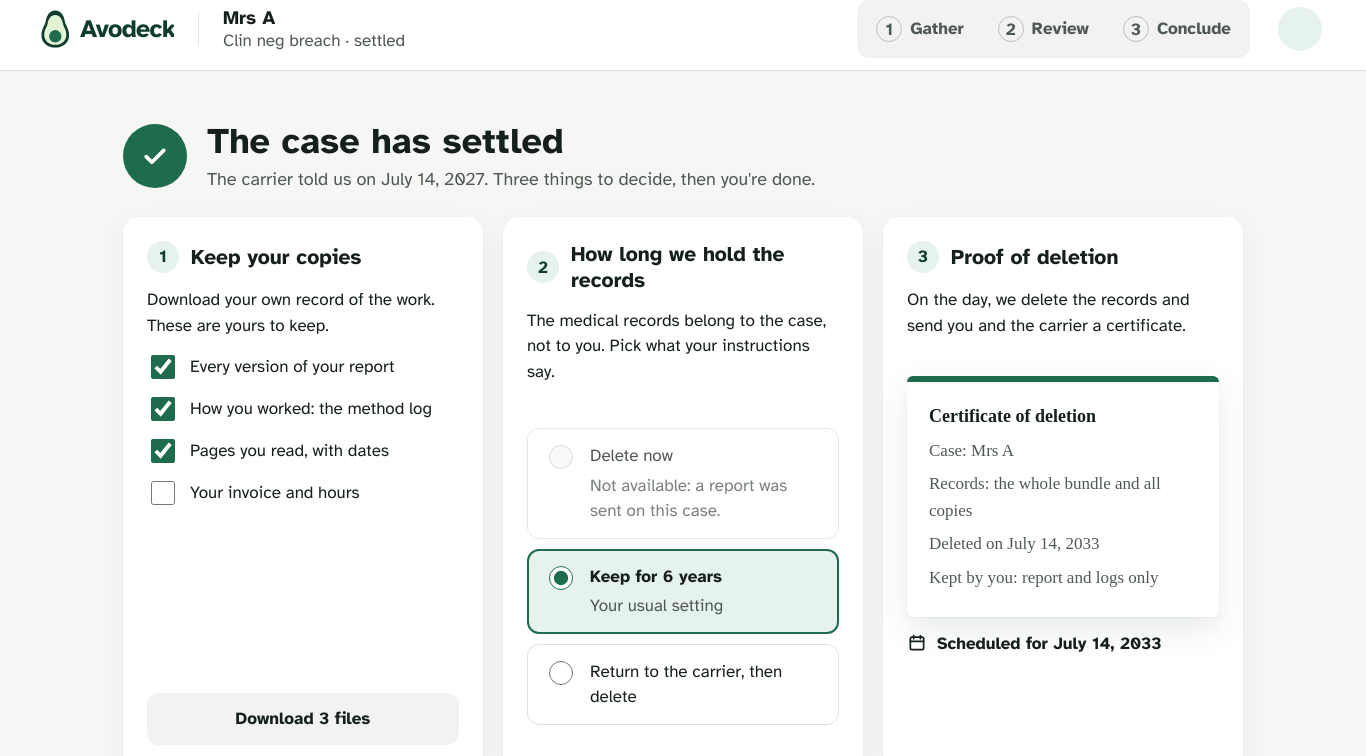
Scenario: the return choice names the instructing party in the pack's words and is saved
Click the radio button labelled "Return to the carrier, then delete" at (561, 672), box [549,660,573,684]
(page scrolled)
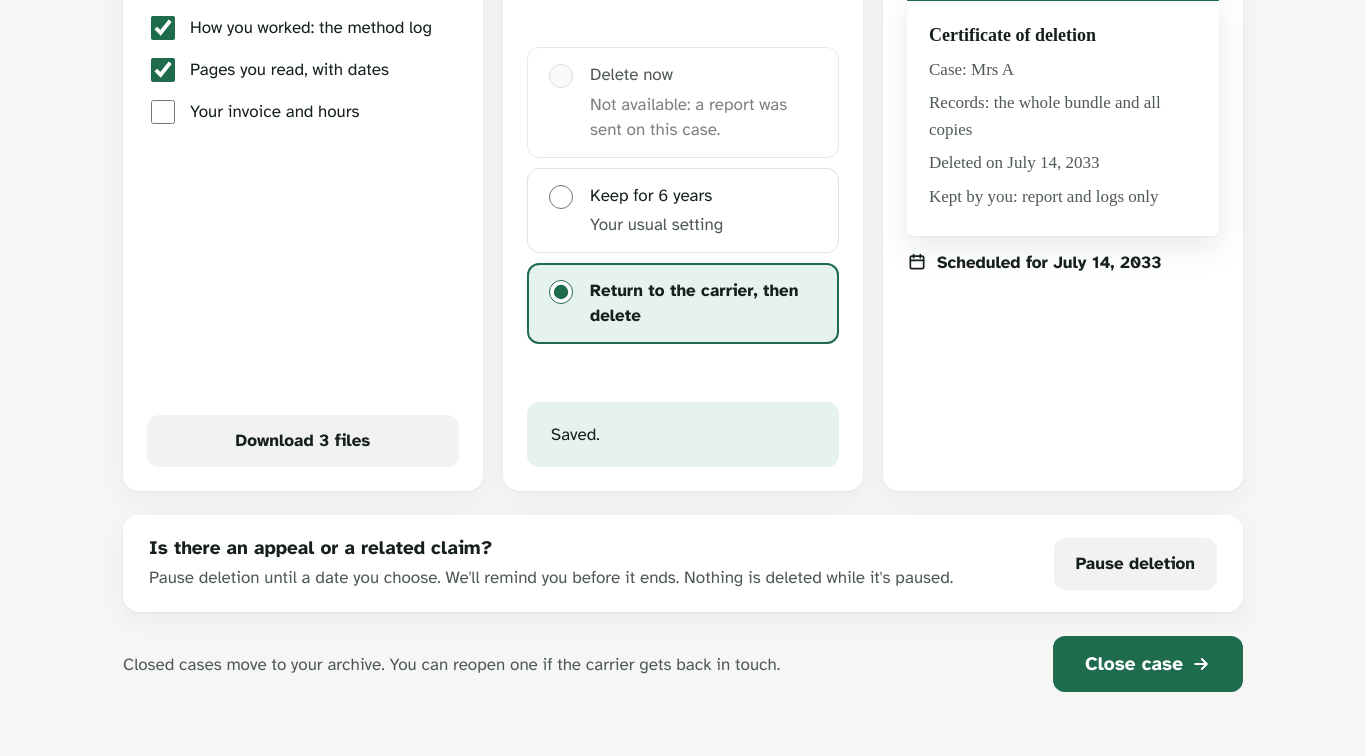
Result: the text "Saved." is shown at [551,424,600,444]
